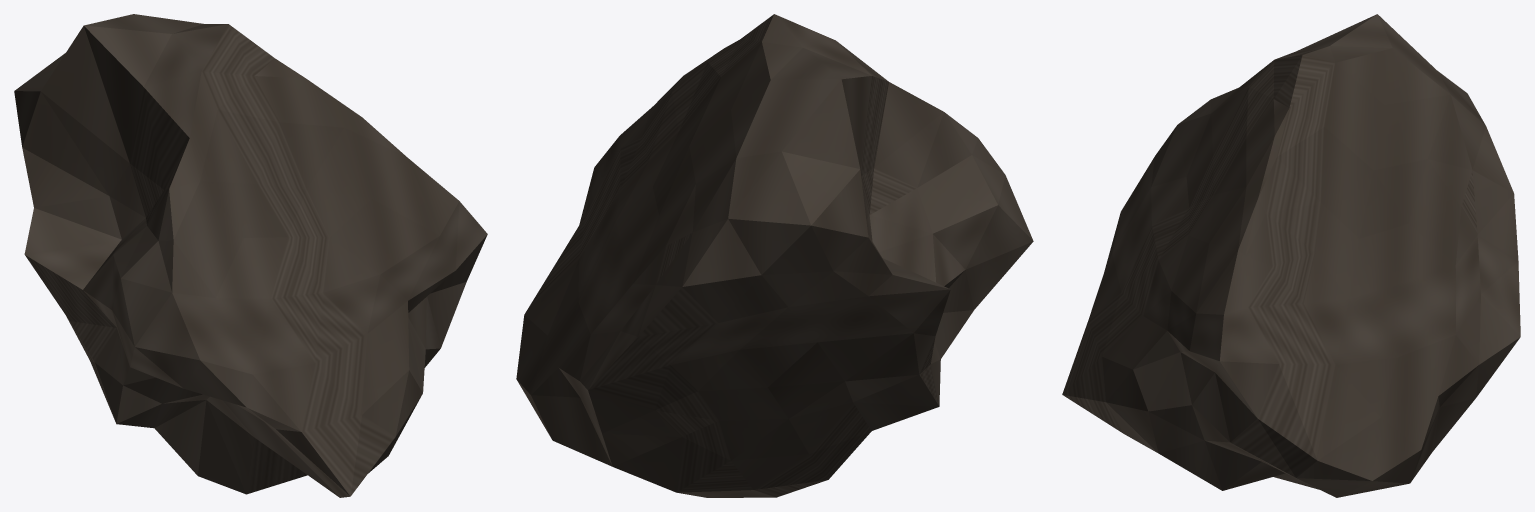
The model's file is asteroid_3.glb.
The picture shows the model from 3 angles, left to right: view 1: azimuth 30°, elevation 25°; view 2: azimuth 150°, elevation 25°; view 3: azimuth 270°, elevation 25°; orthographic projection. The views are drawn at different scales.
Parts seen in each view (by area): view 1: asteroid_shattered; view 2: asteroid_shattered; view 3: asteroid_shattered.
Part boxes in pixels (bbox=[...]): asteroid_shattered: bbox=[14, 14, 487, 497]; asteroid_shattered: bbox=[516, 14, 1033, 497]; asteroid_shattered: bbox=[1062, 14, 1520, 497].
Bounding box in the file's own units: 8 × 8.49 × 8.42.
1 material, 1 textured.
